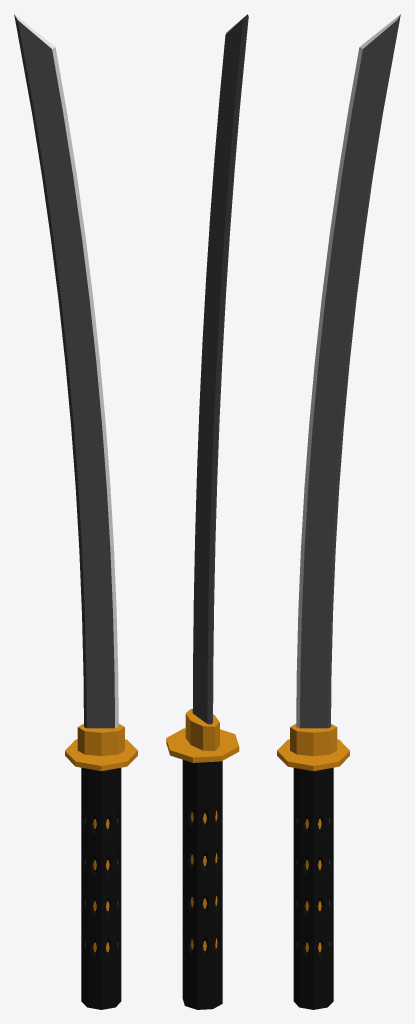
File: Katana.glb
3 views of the same model, side by side, from view 1: azimuth 90°, elevation 25°; view 2: azimuth 210°, elevation 25°; view 3: azimuth 270°, elevation 25° (orthographic). The views are drawn at different scales.
Visible parts, largest first — view 1: Katana; view 2: Katana; view 3: Katana.
Part boxes in pixels (<box>): Katana: <box>14,14,137,1009</box>; Katana: <box>166,14,248,1009</box>; Katana: <box>277,14,400,1009</box>.
Bounding box in the file's own units: 0.0559 × 0.8346 × 0.0948.
Materials: 1 (1 with a texture image).
